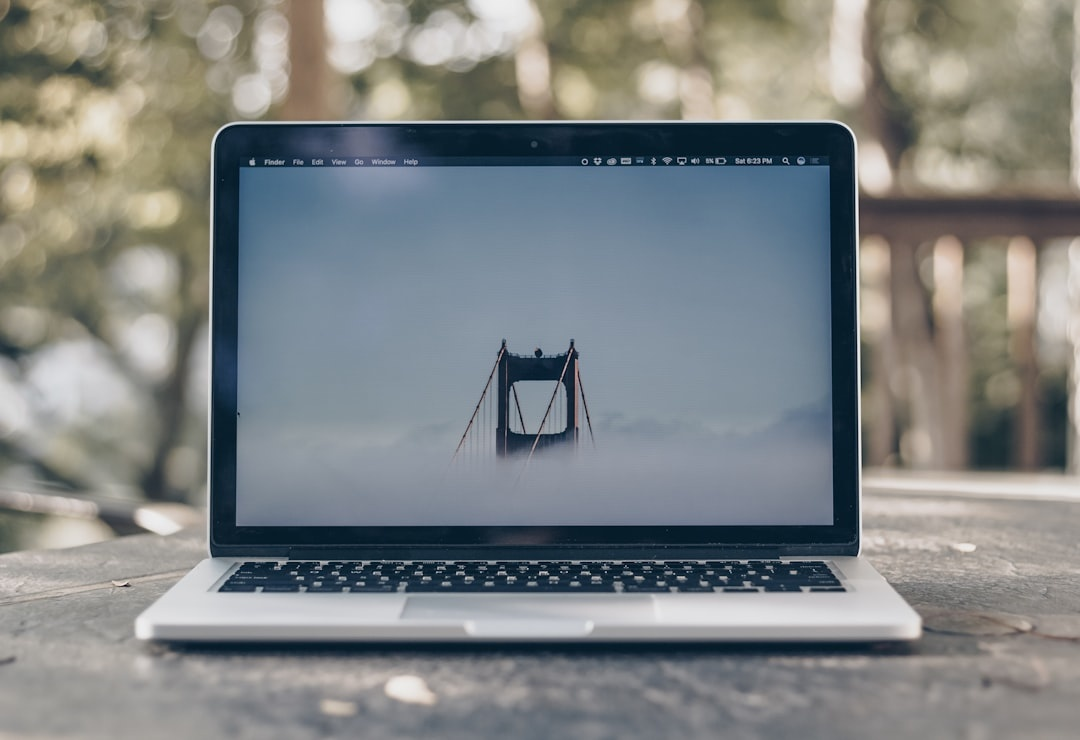laptop: (105, 80, 966, 668)
